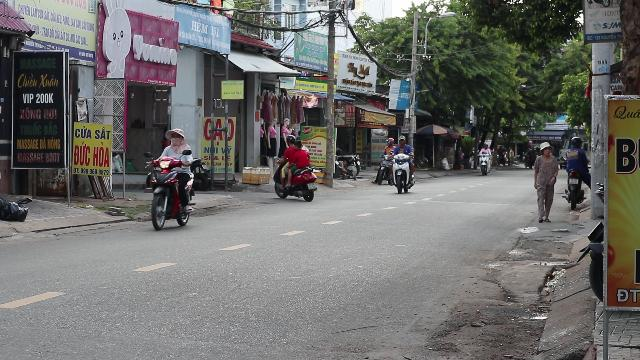motorcyclist: (142, 128, 198, 230)
nohelmet: (162, 128, 185, 146)
